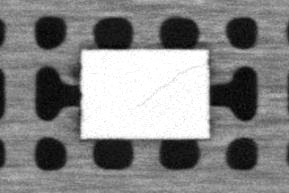DIE_CRACK: (136, 61, 207, 109)
